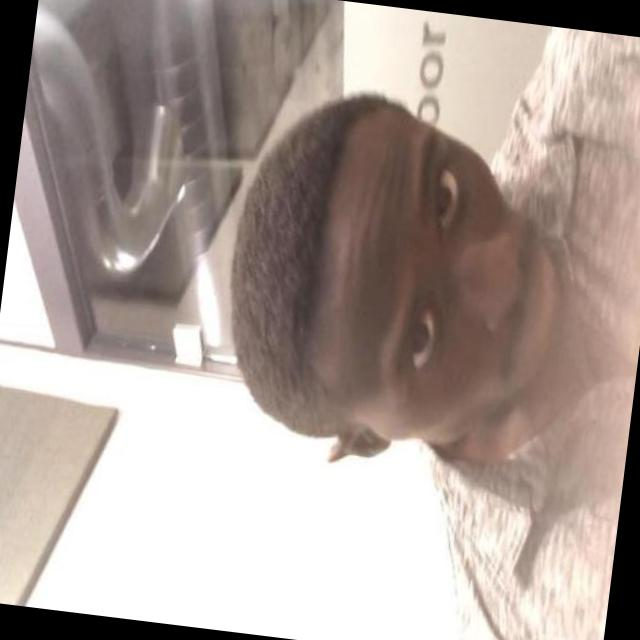bareface: (187, 86, 588, 490)
